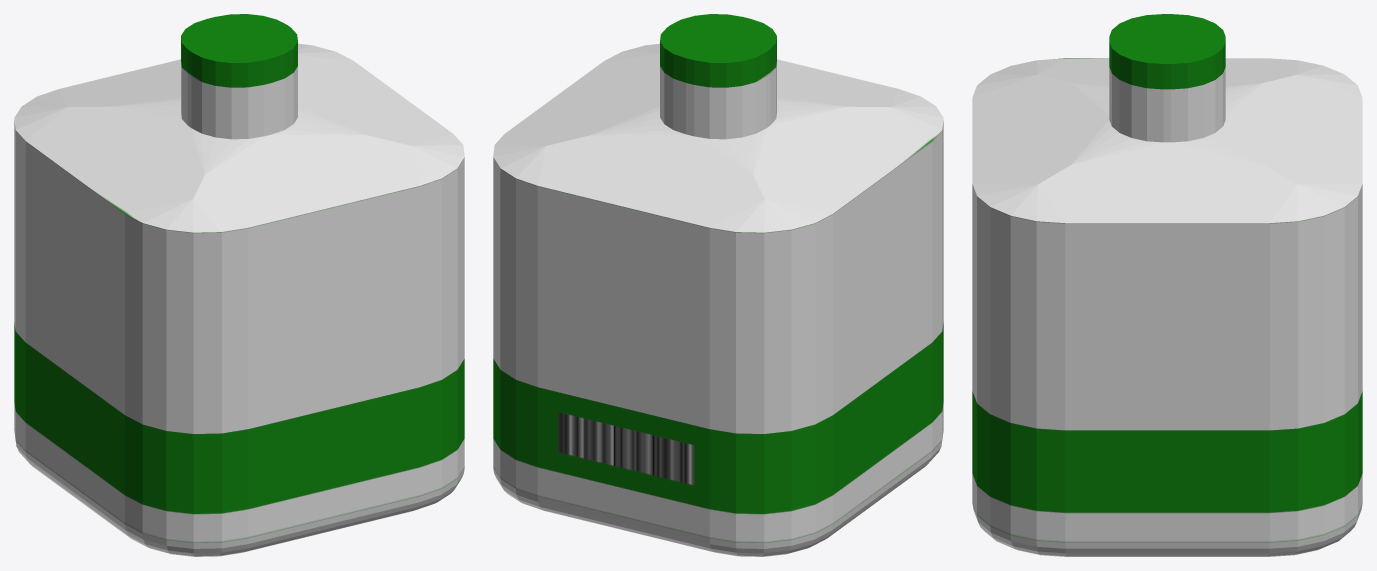
File: semi_skimmed_1pt.glb
The picture shows the model from 3 angles, left to right: view 1: azimuth 30°, elevation 25°; view 2: azimuth 150°, elevation 25°; view 3: azimuth 270°, elevation 25°; orthographic projection. The views are drawn at different scales.
Visible parts, largest first — view 1: Cube; view 2: Cube; view 3: Cube.
Boxes of the visible parts, box(x1,y1,x2,y2) form: Cube: box(14, 14, 464, 556); Cube: box(493, 14, 943, 556); Cube: box(972, 14, 1362, 556).
Bounding box in the file's own units: 0.2 × 0.25 × 0.2.
Materials: 1 (1 with a texture image).
